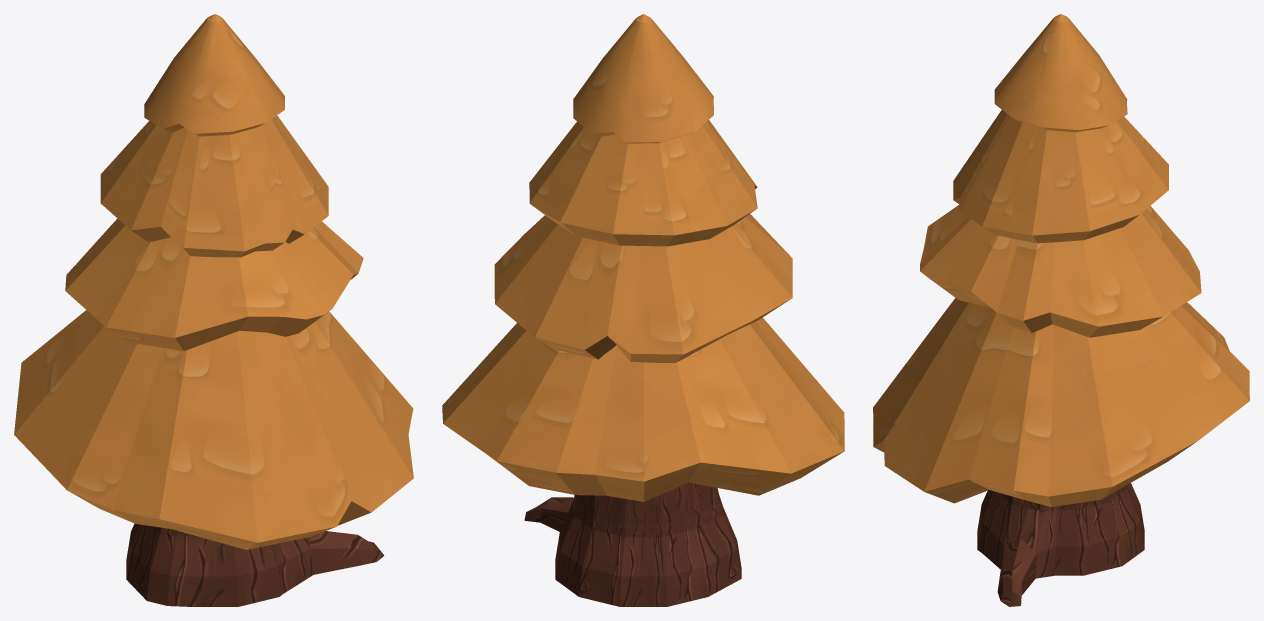
File: Pine 3.FBX
3 views of the same model, side by side, from view 1: azimuth 30°, elevation 25°; view 2: azimuth 150°, elevation 25°; view 3: azimuth 270°, elevation 25° (orthographic). The views are drawn at different scales.
Visible parts, largest first — view 1: Cone003; view 2: Cone003; view 3: Cone003.
Part boxes in pixels (x1,y1,x2,y2): Cone003: (14, 14, 413, 606); Cone003: (442, 14, 844, 606); Cone003: (873, 14, 1249, 606).
Size of the model in its own units: 21.5 by 32.76 by 21.21.
